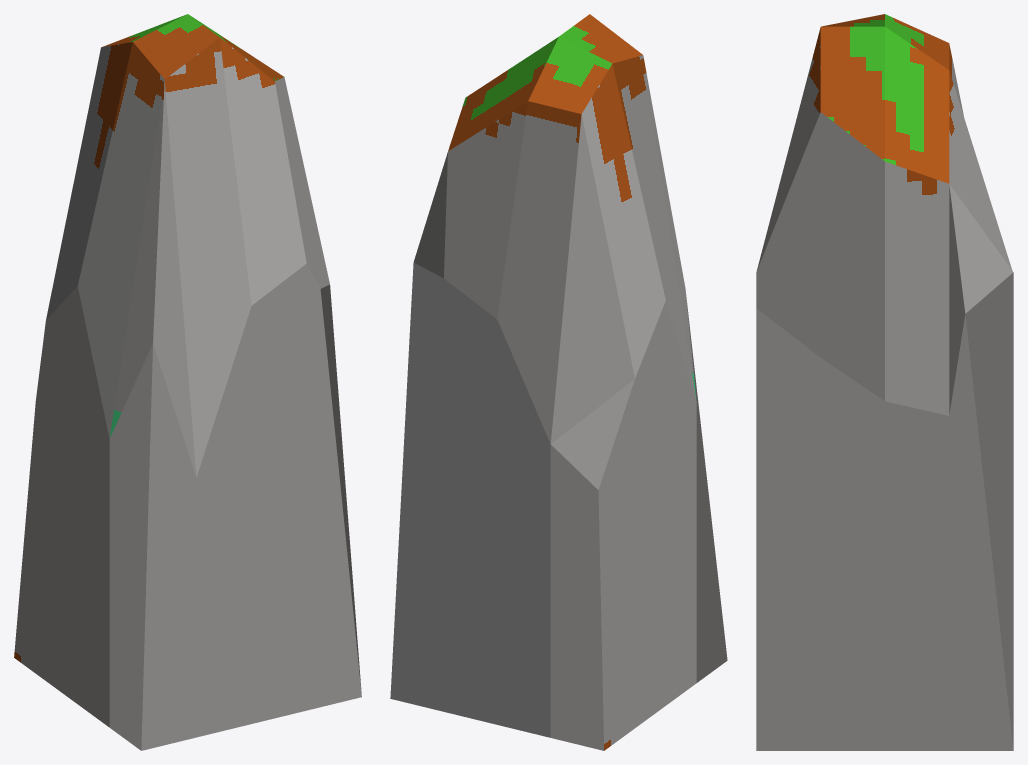
Rendered from cliff.glb.
3 views of the same model, side by side, from view 1: azimuth 30°, elevation 25°; view 2: azimuth 150°, elevation 25°; view 3: azimuth 270°, elevation 25° (orthographic). The views are drawn at different scales.
Parts seen in each view (by area): view 1: cuboid; view 2: cuboid; view 3: cuboid.
Part boxes in pixels (x1,y1,x2,y2): cuboid: (14,14,361,750); cuboid: (390,14,727,750); cuboid: (756,14,1013,750).
Bounding box in the file's own units: 1 × 2.88 × 1.
1 material, 1 textured.
